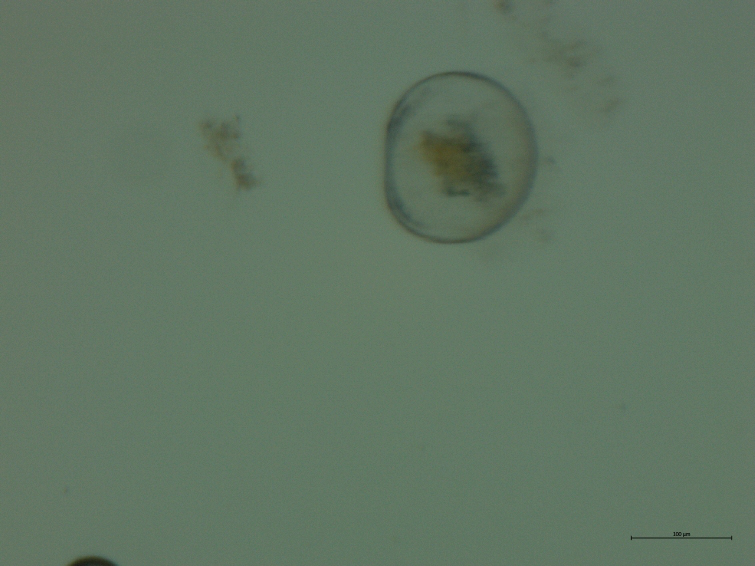oyster: (374, 61, 551, 254)
